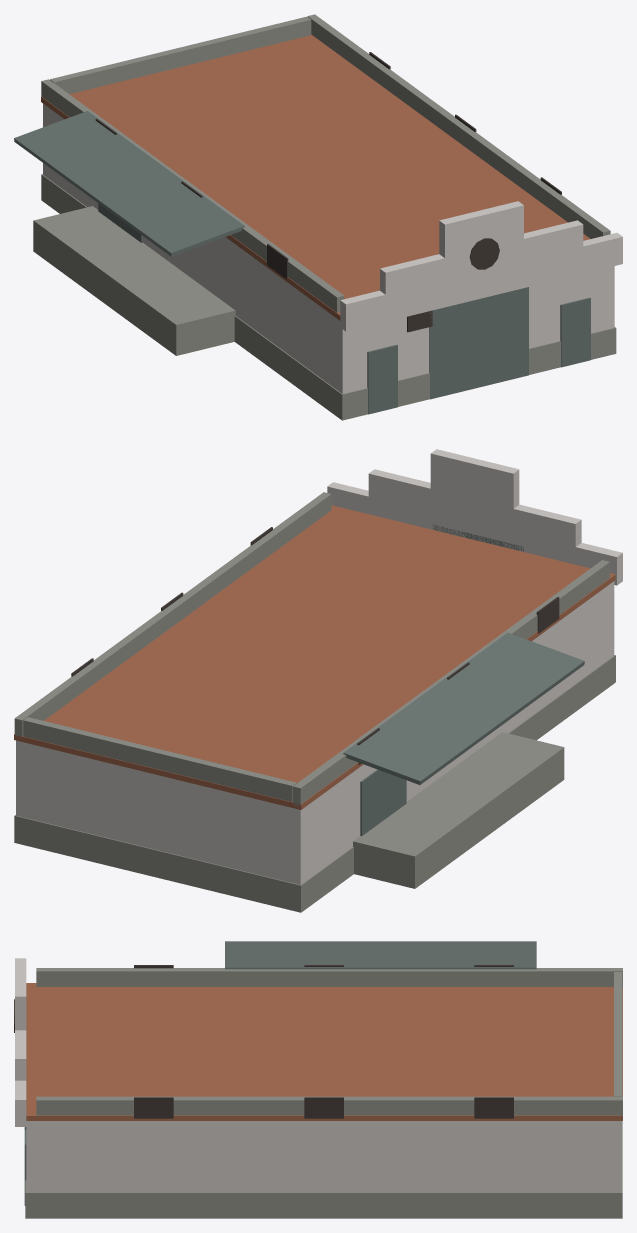
The model's file is SM_Cooperativa_v1_AlmacenMuelle_LOD1.fbx.
3 renders of one model, top to bottom at view 1: azimuth 30°, elevation 25°; view 2: azimuth 150°, elevation 25°; view 3: azimuth 270°, elevation 25°, orthographic. The views are drawn at different scales.
Visible parts, largest first — view 1: SM_bloques.cooperativa_v1_LOD1; view 2: SM_bloques.cooperativa_v1_LOD1; view 3: SM_bloques.cooperativa_v1_LOD1.
Part boxes in pixels (box(x1,y1,x2,y2)): SM_bloques.cooperativa_v1_LOD1: box(14, 14, 622, 420); SM_bloques.cooperativa_v1_LOD1: box(14, 449, 622, 912); SM_bloques.cooperativa_v1_LOD1: box(14, 941, 622, 1218).
Size of the model in its own units: 14 by 6.8 by 21.49.
